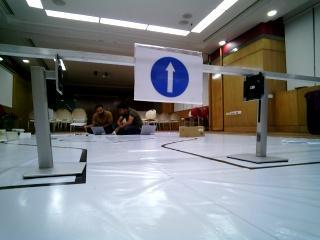straight: (136, 45, 204, 105)
